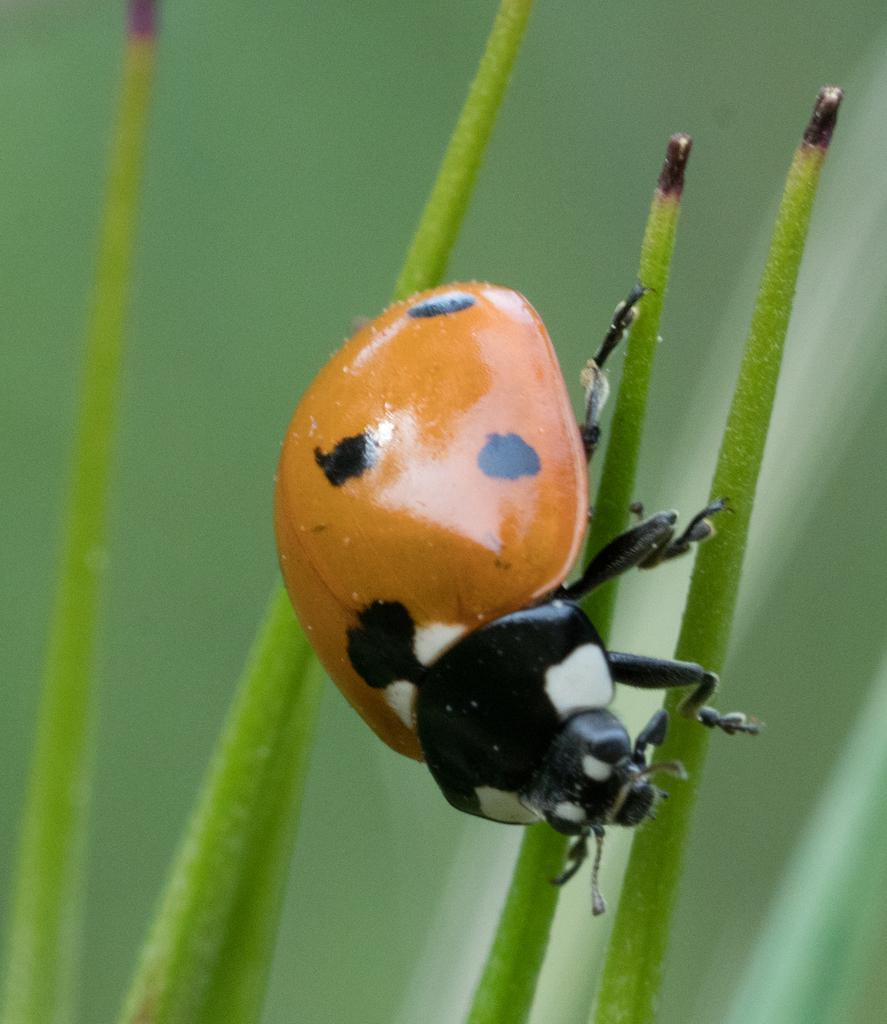ladybug: (271, 279, 769, 921)
